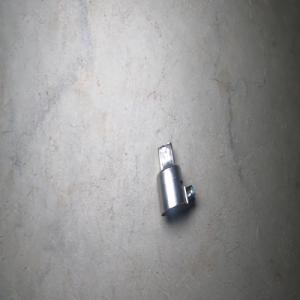MetalPart: (156, 141, 196, 216)
